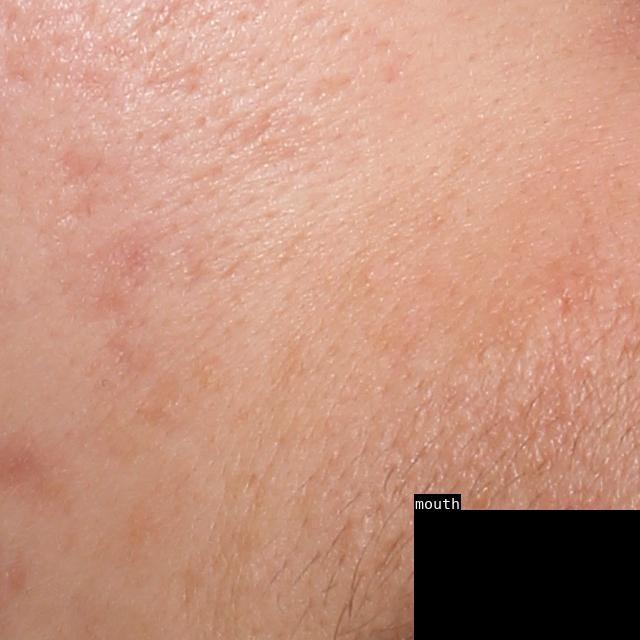atrophic_scar: (303, 70, 361, 113), (53, 189, 102, 231), (55, 153, 97, 192)
